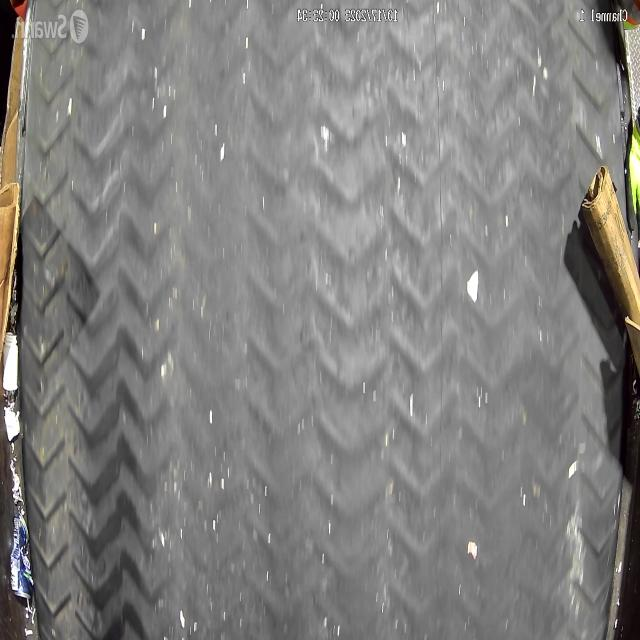can: (10, 514, 34, 601)
